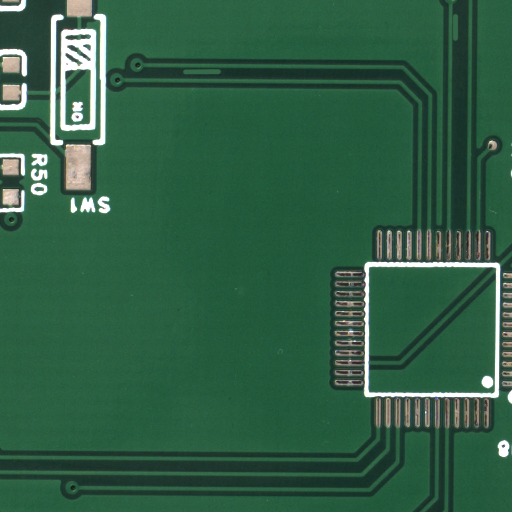Spurious_copper: (202, 70, 241, 79), (456, 26, 464, 56)
